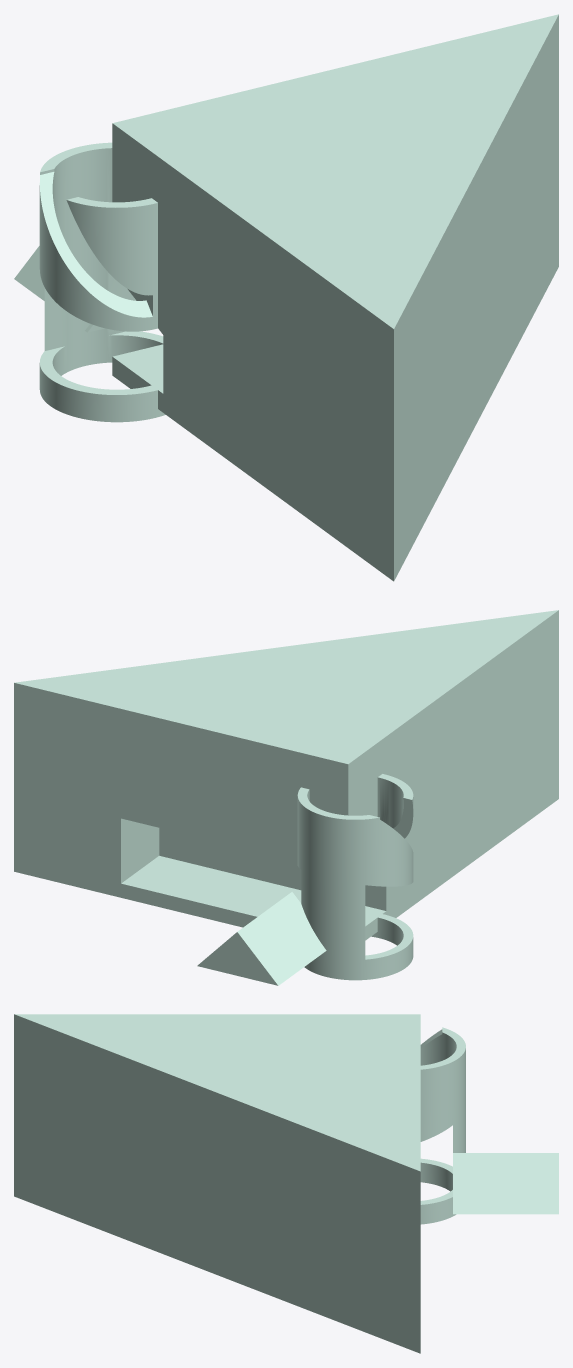
3 views of the same model, one above another, from view 1: azimuth 30°, elevation 25°; view 2: azimuth 150°, elevation 25°; view 3: azimuth 270°, elevation 25° (orthographic). The views are drawn at different scales.
Parts seen in each view (by area): view 1: Renderer Node; view 2: Renderer Node; view 3: Renderer Node.
Part boxes in pixels (<box>): Renderer Node: <box>14,14,558,581</box>; Renderer Node: <box>14,610,558,985</box>; Renderer Node: <box>14,1014,558,1353</box>.
Size of the model in its own units: 1.55 by 0.75 by 1.97.
